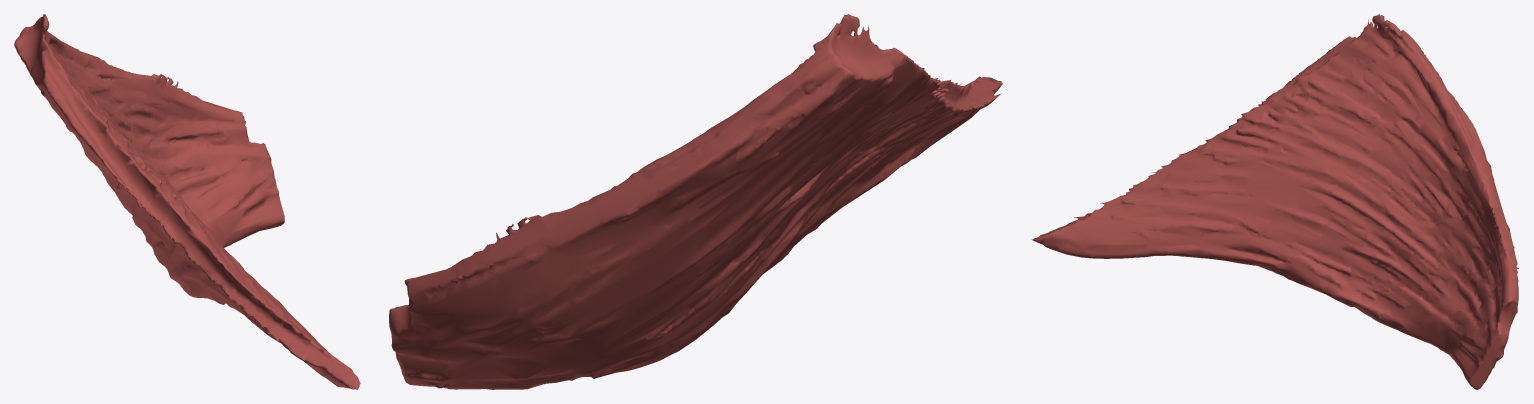
File: FMA45858.glb
3 renders of one model, left to right at view 1: azimuth 30°, elevation 25°; view 2: azimuth 150°, elevation 25°; view 3: azimuth 270°, elevation 25°, orthographic. The views are drawn at different scales.
Visible parts, largest first — view 1: FMA45858; view 2: FMA45858; view 3: FMA45858.
Part boxes in pixels (x1,y1,x2,y2): FMA45858: (14, 14, 360, 389); FMA45858: (389, 14, 1002, 389); FMA45858: (1031, 14, 1518, 389).
Size of the model in its own units: 0.0445 by 0.0434 by 0.0736.
